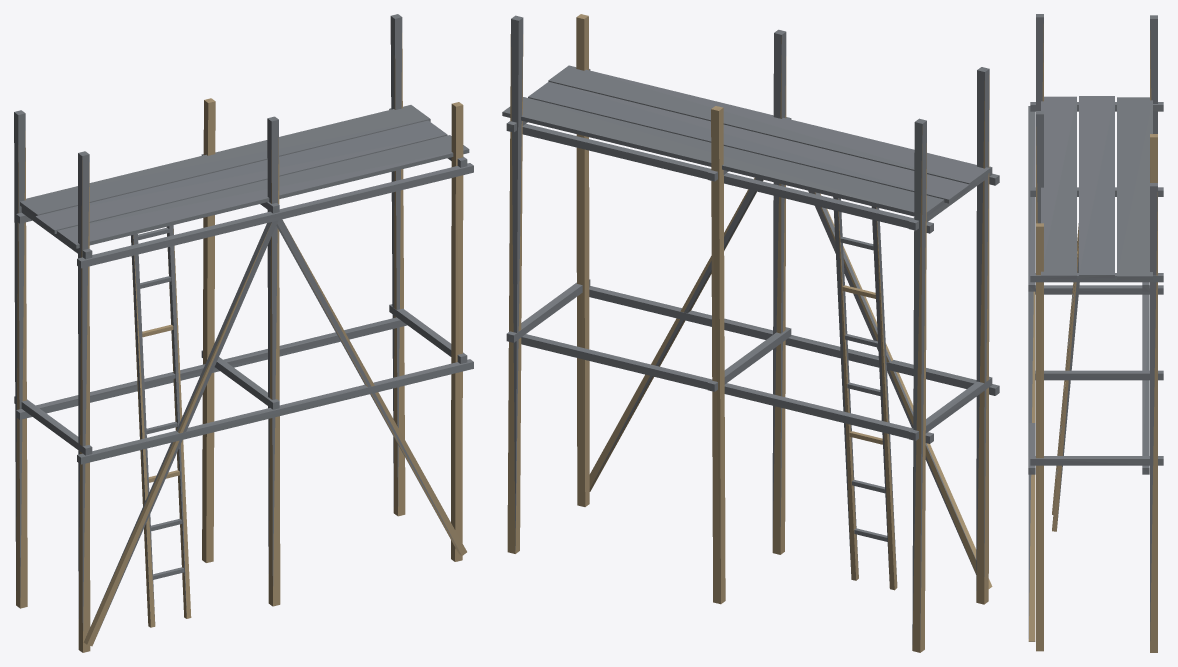
Rendered from scaffold-00.glb.
3 views of the same model, side by side, from view 1: azimuth 30°, elevation 25°; view 2: azimuth 150°, elevation 25°; view 3: azimuth 270°, elevation 25° (orthographic). The views are drawn at different scales.
Parts seen in each view (by area): view 1: scaffold_00; view 2: scaffold_00; view 3: scaffold_00.
Boxes of the visible parts, x1,y1,x2,y2 form: scaffold_00: (14, 14, 473, 652); scaffold_00: (502, 14, 999, 652); scaffold_00: (1028, 14, 1163, 652).
Bounding box in the file's own units: 4.43 × 5.31 × 1.4.
